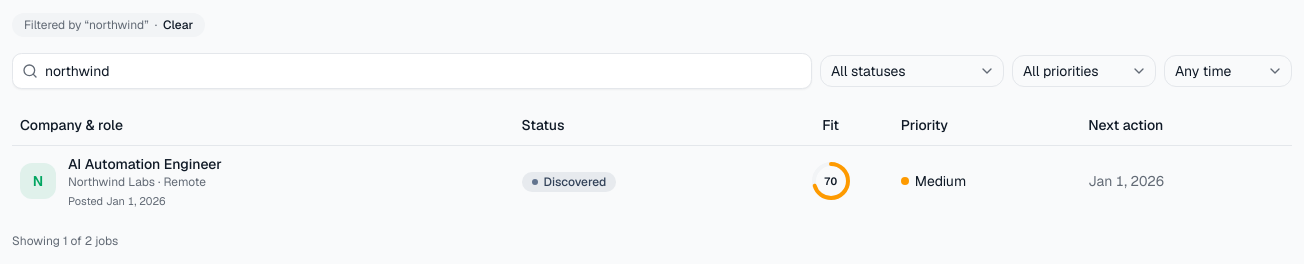
shows a "Filtered by" chip for a search from the URL, with Clear
Expected: the text "Filtered by “northwind” · Clear" is shown, [12, 13, 205, 37]
Once the search box says something else, the chip would be wrong.
Type " labs" into the search field named "search jobs" at {"x": 412, "y": 71}, box [12, 53, 812, 89]
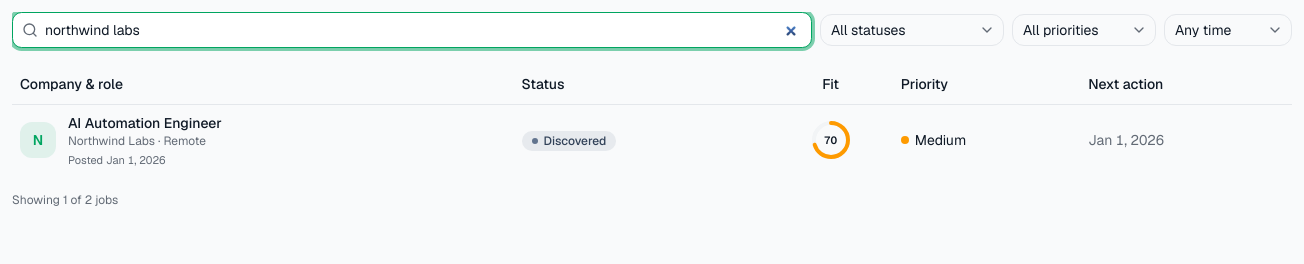
Expected: the text "Filtered by" is gone
